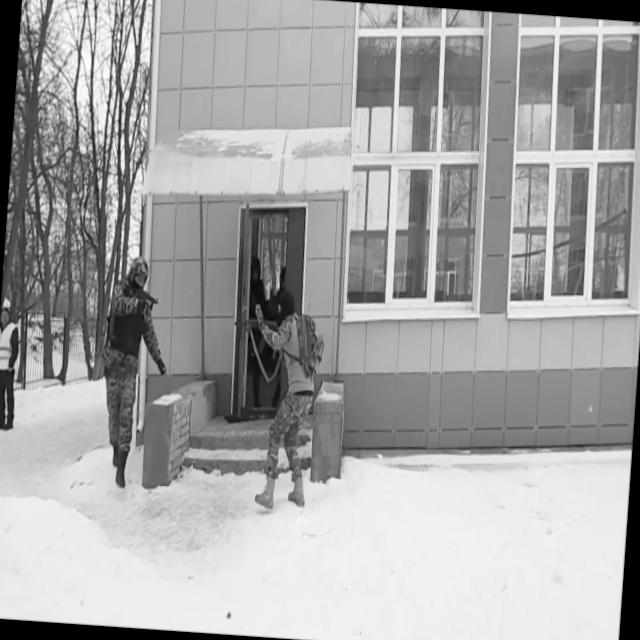gun: (232, 314, 280, 360), (120, 279, 160, 320)
person: (0, 303, 23, 432)
person with a gun: (222, 288, 321, 512), (94, 251, 175, 489)
